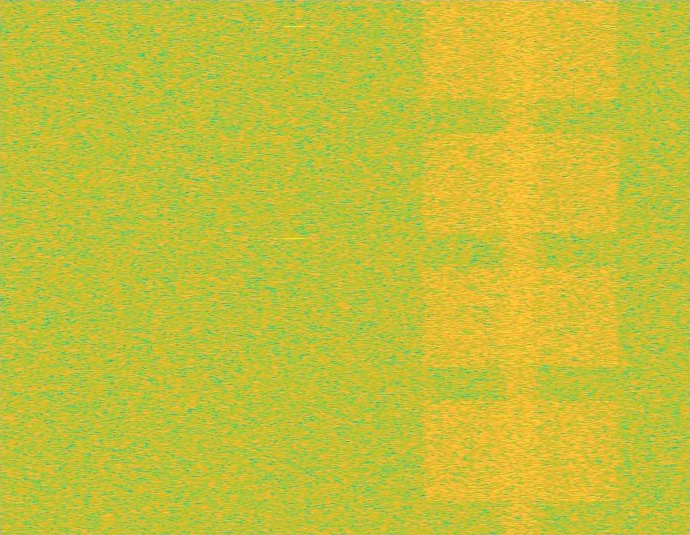5G: (417, 0, 624, 534)
DSSS: (497, 0, 544, 534)
Radar: (288, 0, 302, 534)
